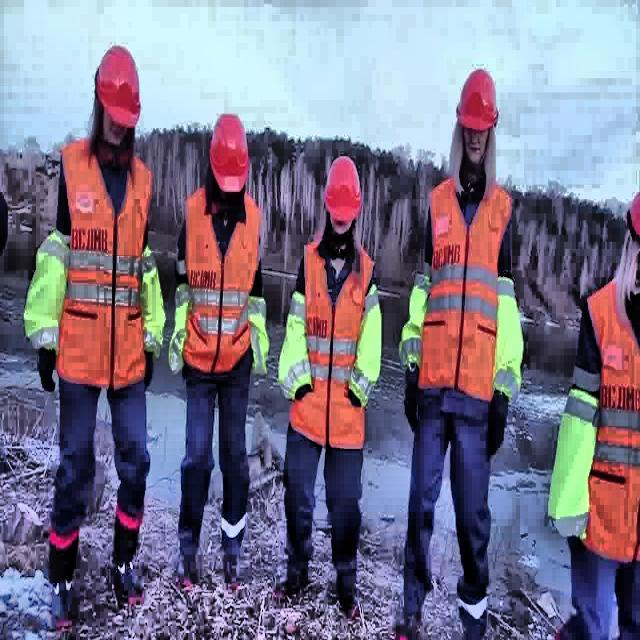safety_helmet: (94, 38, 144, 136), (208, 110, 252, 199), (455, 65, 500, 133), (325, 152, 364, 230)
safety_jacket: (62, 137, 155, 389), (428, 176, 514, 411), (289, 239, 374, 447), (586, 274, 640, 564), (180, 196, 260, 370), (547, 395, 598, 545), (23, 234, 71, 350), (346, 278, 380, 408), (494, 270, 526, 402), (398, 272, 433, 367), (277, 288, 305, 398), (140, 245, 166, 361), (168, 279, 188, 382), (248, 287, 269, 372)
